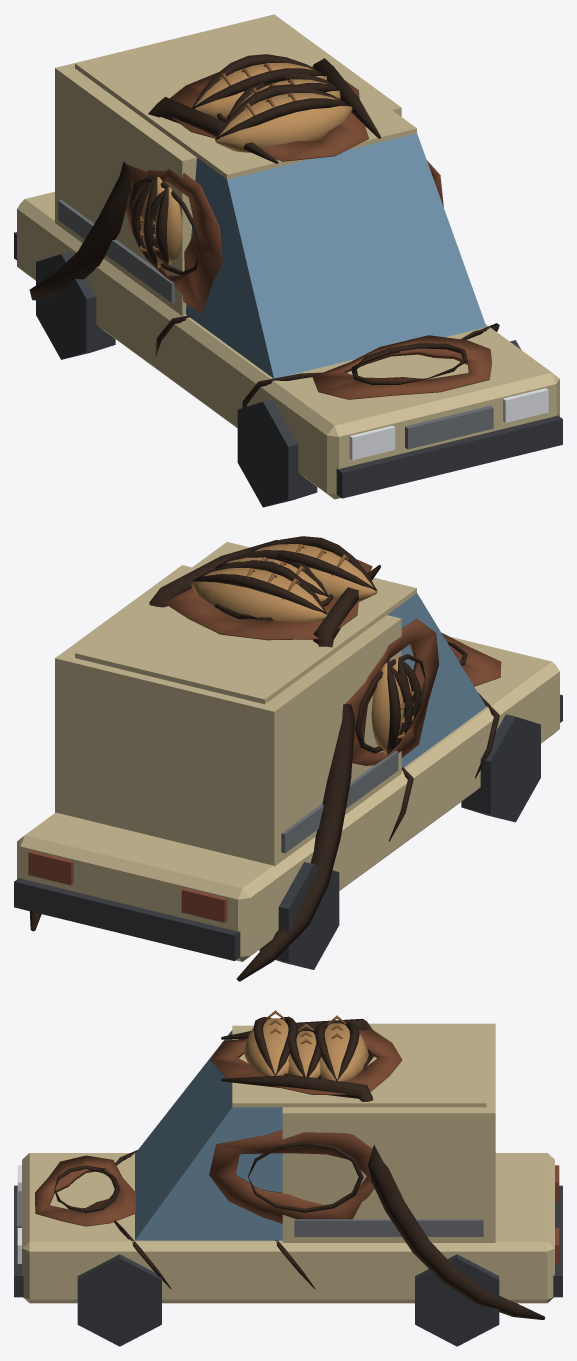
Rendered from prop-car-utility-infested-3.glb.
The picture shows the model from 3 angles, top to bottom: view 1: azimuth 30°, elevation 25°; view 2: azimuth 150°, elevation 25°; view 3: azimuth 270°, elevation 25°; orthographic projection. The views are drawn at different scales.
Parts seen in each view (by area): view 1: greenhouse, host_growth, painted-body, solid-cargo-body, painted-roof, bumper-1, tyre-0.57--1, tyre--0.57--1, cargo-trim--1, grille, light-1--1, light-1-1; view 2: solid-cargo-body, painted-body, host_growth, painted-roof, bumper--1, tyre-0.57--1, greenhouse, tyre--0.57--1, cargo-trim--1, light--1--1, light--1-1; view 3: painted-body, host_growth, solid-cargo-body, greenhouse, painted-roof, tyre-0.57-1, tyre--0.57-1, cargo-trim-1, bumper--1, bumper-1.
Boxes of the visible parts, x1,y1,x2,y2 form: greenhouse: (186, 133, 486, 378); host_growth: (29, 54, 499, 407); painted-body: (17, 191, 559, 499); solid-cargo-body: (55, 14, 401, 315); painted-roof: (75, 17, 416, 179); bumper-1: (336, 415, 562, 498); tyre-0.57--1: (237, 399, 317, 507); tyre--0.57--1: (36, 251, 115, 359); cargo-trim--1: (58, 200, 175, 302); grille: (405, 405, 493, 449); light-1--1: (349, 425, 395, 460); light-1-1: (503, 388, 548, 422); solid-cargo-body: (55, 565, 401, 866); painted-body: (17, 636, 559, 961); host_growth: (29, 536, 501, 981); painted-roof: (75, 542, 416, 704); bumper--1: (14, 877, 240, 960); tyre-0.57--1: (461, 714, 540, 822); greenhouse: (387, 593, 486, 767); tyre--0.57--1: (259, 862, 339, 969); cargo-trim--1: (281, 751, 398, 853); light--1--1: (181, 888, 227, 922); light--1-1: (28, 850, 73, 885); painted-body: (22, 1153, 554, 1303); host_growth: (35, 1010, 545, 1319); solid-cargo-body: (282, 1023, 495, 1242); greenhouse: (135, 1030, 282, 1240); painted-roof: (232, 1025, 486, 1107); tyre-0.57-1: (77, 1254, 161, 1346); tyre--0.57-1: (415, 1254, 499, 1346); cargo-trim-1: (294, 1219, 483, 1236); bumper--1: (553, 1185, 562, 1297); bumper-1: (14, 1185, 23, 1297).
Size of the model in its own units: 0.8788 by 0.9896 by 1.85.
